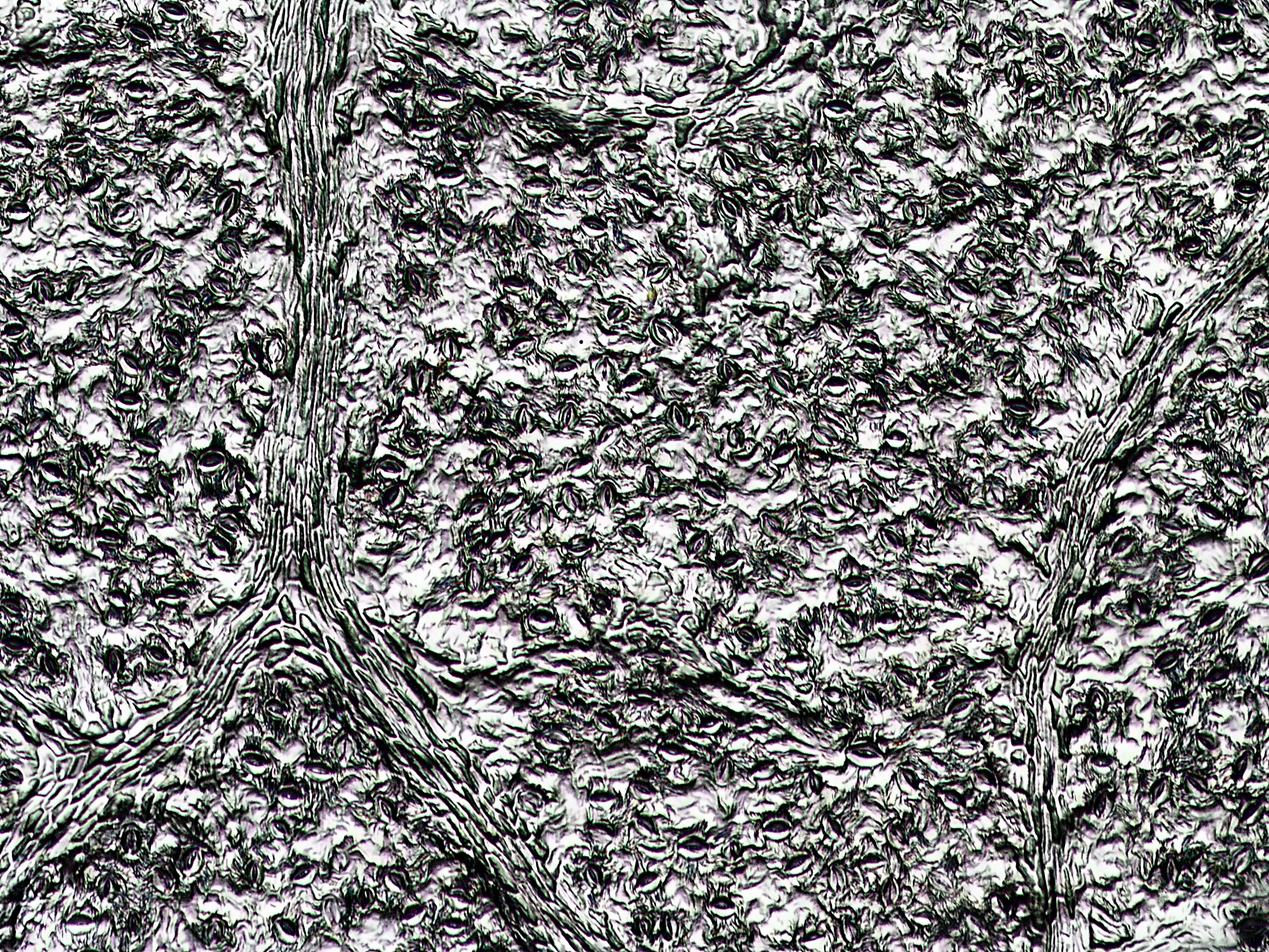stomata: (1056, 255, 1095, 283), (533, 723, 569, 753), (647, 316, 678, 350), (846, 742, 885, 767), (664, 399, 691, 434), (1107, 529, 1137, 560), (1245, 548, 1269, 586), (1231, 748, 1256, 784), (694, 477, 726, 505), (1195, 499, 1228, 526), (133, 242, 162, 272), (272, 915, 301, 945), (527, 605, 558, 633), (946, 569, 982, 593), (782, 851, 815, 877), (461, 491, 489, 521), (833, 607, 863, 635), (556, 0, 589, 25), (584, 817, 618, 841), (597, 48, 620, 83), (216, 184, 238, 220), (44, 512, 77, 536), (1230, 844, 1254, 877), (1148, 774, 1172, 807), (1128, 586, 1152, 619), (1102, 269, 1126, 302), (973, 767, 1001, 795), (1200, 605, 1229, 632), (718, 193, 745, 222), (427, 84, 461, 107), (937, 787, 968, 812), (1042, 312, 1067, 343), (1118, 69, 1150, 93), (1050, 172, 1082, 196), (1093, 787, 1114, 823), (768, 368, 796, 395), (1107, 149, 1128, 185), (164, 164, 190, 193), (939, 88, 969, 113), (805, 191, 830, 221), (966, 245, 996, 270), (994, 220, 1024, 245), (705, 895, 737, 918), (849, 168, 881, 191), (24, 415, 51, 442), (736, 622, 764, 648), (121, 823, 143, 856), (496, 489, 525, 514), (861, 230, 890, 255), (568, 249, 592, 279), (595, 481, 619, 511), (762, 817, 792, 841), (618, 523, 649, 546), (1087, 682, 1109, 714), (902, 585, 934, 607), (804, 146, 826, 178), (895, 766, 921, 793), (1153, 646, 1180, 672), (822, 318, 849, 344), (380, 483, 405, 511), (821, 101, 856, 121), (948, 276, 976, 301), (197, 449, 226, 473), (562, 485, 586, 514), (925, 663, 954, 687), (1198, 367, 1227, 391), (207, 913, 228, 946), (541, 303, 571, 326), (506, 453, 536, 476), (869, 455, 899, 478), (1204, 401, 1227, 431), (64, 913, 95, 935), (1180, 439, 1211, 461), (75, 23, 109, 43), (104, 646, 124, 680), (165, 292, 192, 317), (605, 1, 632, 26), (754, 137, 779, 164), (819, 255, 844, 282), (1178, 193, 1203, 220), (65, 276, 89, 304), (657, 741, 689, 762), (678, 834, 706, 858), (1239, 798, 1263, 826), (943, 696, 975, 717), (878, 527, 906, 551), (1242, 387, 1266, 415), (551, 355, 580, 378), (952, 735, 981, 758), (519, 175, 552, 195), (375, 455, 405, 477), (880, 877, 902, 907), (193, 37, 224, 58), (0, 633, 31, 654), (434, 166, 465, 187), (713, 755, 734, 786), (587, 790, 618, 811), (798, 502, 829, 523), (765, 555, 790, 581), (632, 183, 658, 208), (998, 355, 1023, 381), (633, 814, 660, 838), (717, 357, 741, 384), (770, 442, 797, 466), (1071, 84, 1090, 118), (263, 697, 291, 720), (380, 49, 408, 72), (223, 462, 243, 494), (245, 857, 265, 889), (595, 355, 615, 387), (908, 909, 940, 929), (405, 267, 427, 296), (530, 503, 552, 532), (1087, 751, 1116, 773), (577, 178, 607, 199), (565, 455, 595, 476), (748, 759, 778, 780), (887, 819, 908, 849), (884, 118, 914, 139), (938, 183, 968, 204), (61, 83, 94, 102), (659, 909, 678, 942), (82, 175, 107, 200), (892, 664, 917, 689), (646, 259, 671, 284), (206, 534, 232, 558), (399, 901, 425, 925), (637, 868, 661, 894), (628, 911, 652, 937), (170, 93, 197, 116), (928, 870, 955, 893), (867, 59, 894, 82), (770, 199, 793, 226), (974, 316, 1001, 339), (40, 461, 68, 483), (152, 866, 174, 894), (180, 846, 202, 874), (241, 752, 269, 774), (493, 301, 515, 329), (470, 404, 492, 432), (990, 277, 1018, 299), (1, 135, 35, 153), (125, 80, 154, 101), (39, 651, 60, 680), (580, 215, 609, 236), (508, 335, 537, 356), (440, 332, 461, 361), (860, 682, 881, 711), (840, 573, 869, 594), (558, 400, 577, 432), (156, 0, 186, 20), (1, 201, 31, 221), (113, 390, 143, 410), (398, 221, 428, 241), (595, 711, 620, 735), (519, 789, 544, 813), (959, 40, 984, 64), (597, 423, 621, 448), (1155, 120, 1180, 144), (162, 328, 185, 354), (385, 867, 408, 893), (630, 777, 656, 800), (443, 886, 469, 909), (1044, 41, 1070, 64), (856, 337, 882, 360), (1158, 514, 1184, 537), (980, 480, 1003, 506), (858, 398, 885, 420), (1222, 473, 1249, 495), (155, 585, 183, 606), (307, 709, 328, 737), (641, 466, 662, 494), (1006, 397, 1034, 418), (95, 527, 124, 547), (1238, 124, 1267, 144), (509, 555, 533, 579), (822, 813, 846, 837), (913, 512, 937, 536), (117, 352, 142, 375), (73, 443, 96, 468), (450, 125, 475, 148), (393, 182, 416, 207), (1184, 770, 1207, 795), (876, 609, 901, 632), (908, 372, 931, 397), (1155, 151, 1180, 174), (942, 484, 967, 507), (0, 595, 26, 617), (290, 865, 316, 887), (565, 534, 591, 556), (989, 891, 1011, 917), (903, 197, 925, 223), (409, 119, 439, 138), (436, 222, 463, 243), (1204, 664, 1231, 685), (1007, 182, 1034, 203), (376, 794, 396, 822), (335, 736, 355, 764), (411, 364, 431, 392), (587, 661, 615, 681), (843, 919, 863, 947), (35, 275, 53, 306), (50, 347, 74, 370), (604, 300, 628, 323), (59, 136, 88, 155), (130, 435, 159, 454), (267, 334, 286, 363), (440, 917, 469, 936), (1215, 32, 1244, 51), (897, 282, 926, 301), (127, 21, 152, 43), (46, 175, 67, 201), (145, 643, 171, 664), (278, 786, 304, 807), (379, 408, 405, 429), (718, 552, 744, 573), (686, 531, 707, 557), (1133, 32, 1159, 53), (355, 883, 375, 910), (383, 80, 413, 98), (637, 647, 667, 665), (799, 929, 827, 948), (782, 652, 810, 671), (217, 512, 240, 535), (218, 238, 240, 262), (698, 715, 723, 736), (1195, 730, 1220, 751), (869, 0, 904, 15), (823, 375, 848, 396), (860, 484, 878, 513), (846, 26, 875, 44), (560, 48, 586, 68), (512, 214, 532, 240), (803, 770, 823, 796), (157, 471, 176, 498), (485, 534, 512, 553), (1004, 58, 1023, 85), (1234, 179, 1261, 198), (516, 404, 533, 434), (112, 202, 134, 225), (759, 513, 781, 536), (1015, 489, 1037, 512), (209, 276, 233, 297), (3, 320, 27, 341), (304, 762, 332, 780), (828, 864, 846, 892), (1211, 1, 1239, 19), (915, 0, 939, 21), (750, 175, 774, 196), (1137, 216, 1158, 240), (157, 364, 182, 384), (584, 863, 604, 888), (795, 616, 815, 641), (92, 110, 118, 129), (722, 148, 739, 177), (722, 839, 744, 861), (1196, 131, 1218, 153), (400, 433, 424, 453), (466, 565, 482, 595), (1171, 0, 1195, 20), (617, 141, 645, 158), (592, 590, 611, 615), (726, 422, 745, 447), (1148, 184, 1167, 209), (1169, 562, 1195, 580), (101, 311, 117, 340), (1164, 856, 1180, 885), (547, 689, 570, 709), (245, 340, 262, 367), (108, 591, 133, 609), (1164, 694, 1189, 712), (747, 242, 765, 267), (98, 875, 115, 901), (501, 275, 527, 292), (1024, 80, 1046, 100), (479, 444, 498, 467), (330, 847, 347, 872), (1096, 17, 1113, 42), (622, 372, 644, 391), (830, 487, 849, 509), (935, 321, 957, 340), (126, 910, 142, 936), (812, 426, 835, 444), (486, 224, 502, 249), (1002, 27, 1022, 47), (1180, 237, 1205, 253), (886, 428, 905, 449), (949, 366, 971, 384), (1113, 0, 1138, 15), (0, 175, 16, 198), (675, 0, 702, 12), (271, 819, 290, 836), (0, 367, 14, 390)
